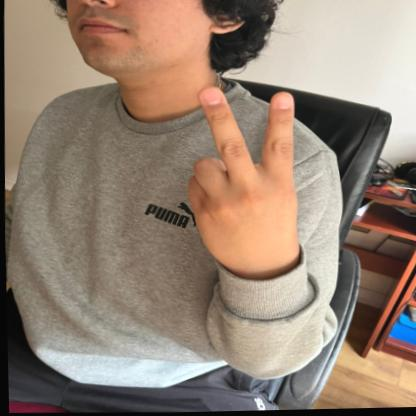V: (173, 80, 311, 270)
